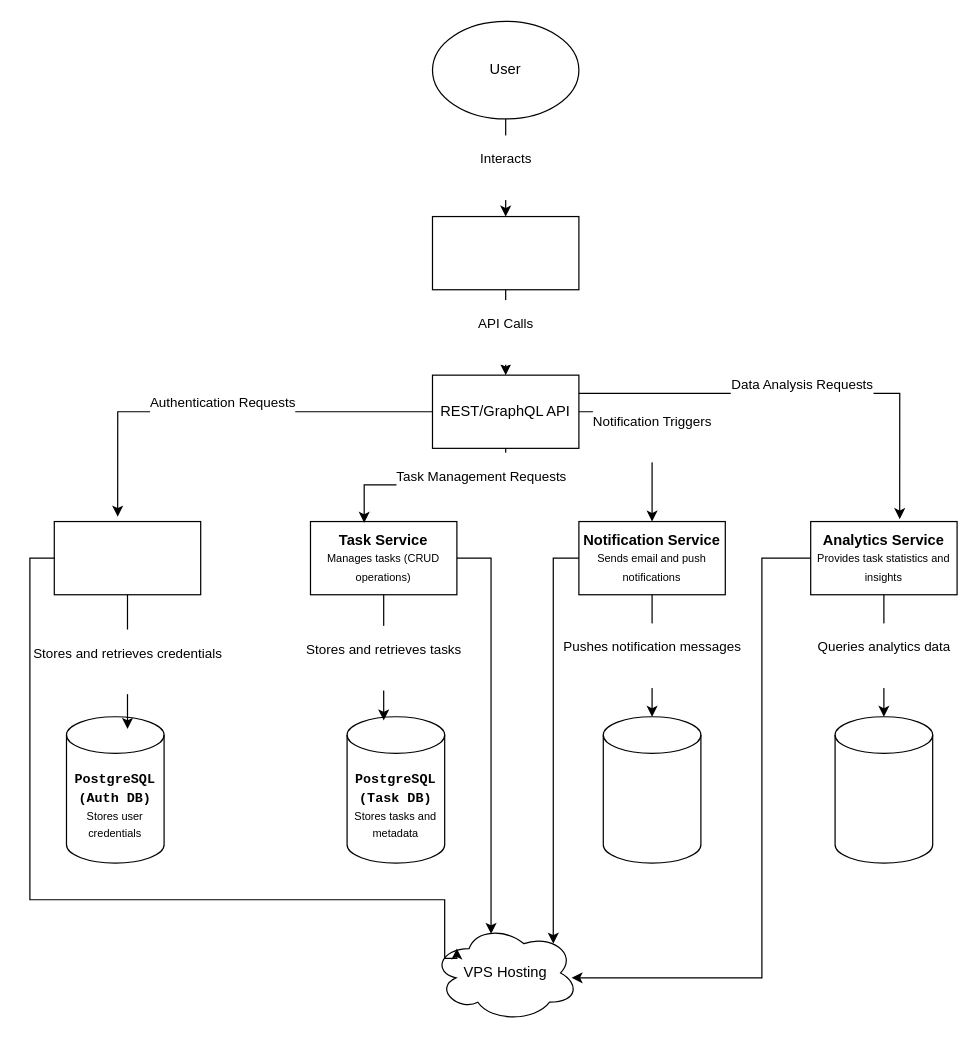
This 978x1043 diagram has some shape labels left out. Here are the shapes that lost their labels. From the top down, the box of each, then its label:
(431, 215, 579, 290): React Frontend
(53, 520, 201, 595): Auth Service Handles user authentication with JWT and OAuth 2.0
(602, 716, 701, 863): Kafka (Message Queue) Handles asynchronous notifications
(834, 716, 933, 863): Elasticsearch (Analytics) Enables search and analytics
